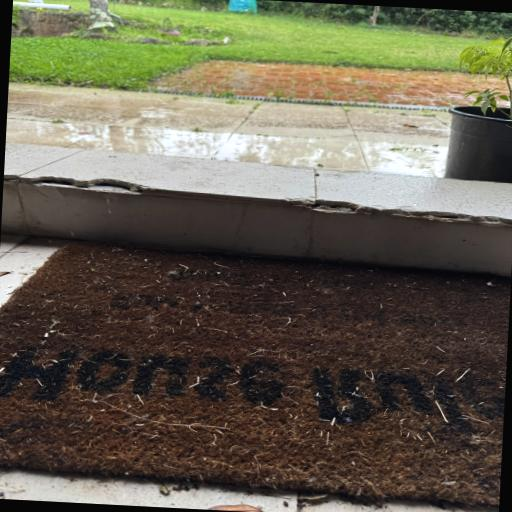step: (2, 144, 512, 277)
